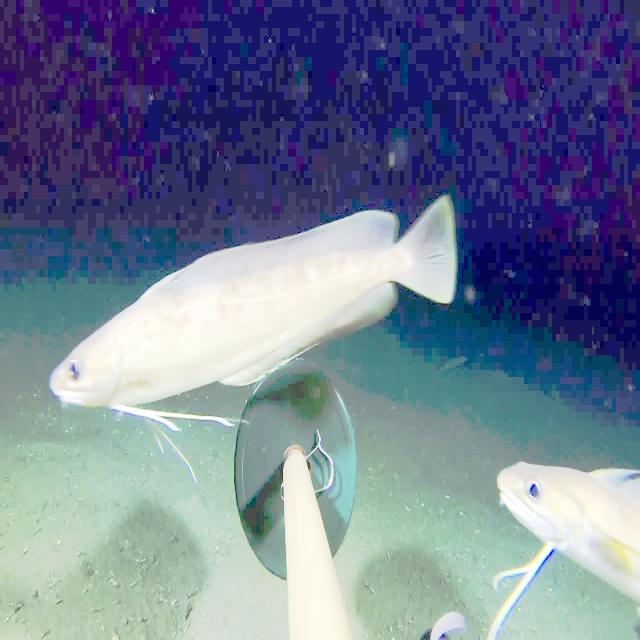eel: (407, 594, 479, 639)
fish: (34, 123, 475, 454), (495, 411, 629, 609)
pole: (232, 358, 366, 639)
